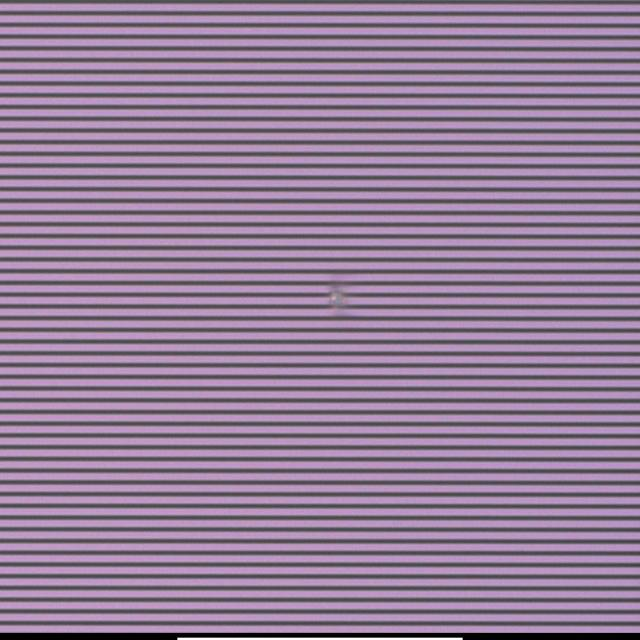nonvisual: (324, 281, 348, 313)
